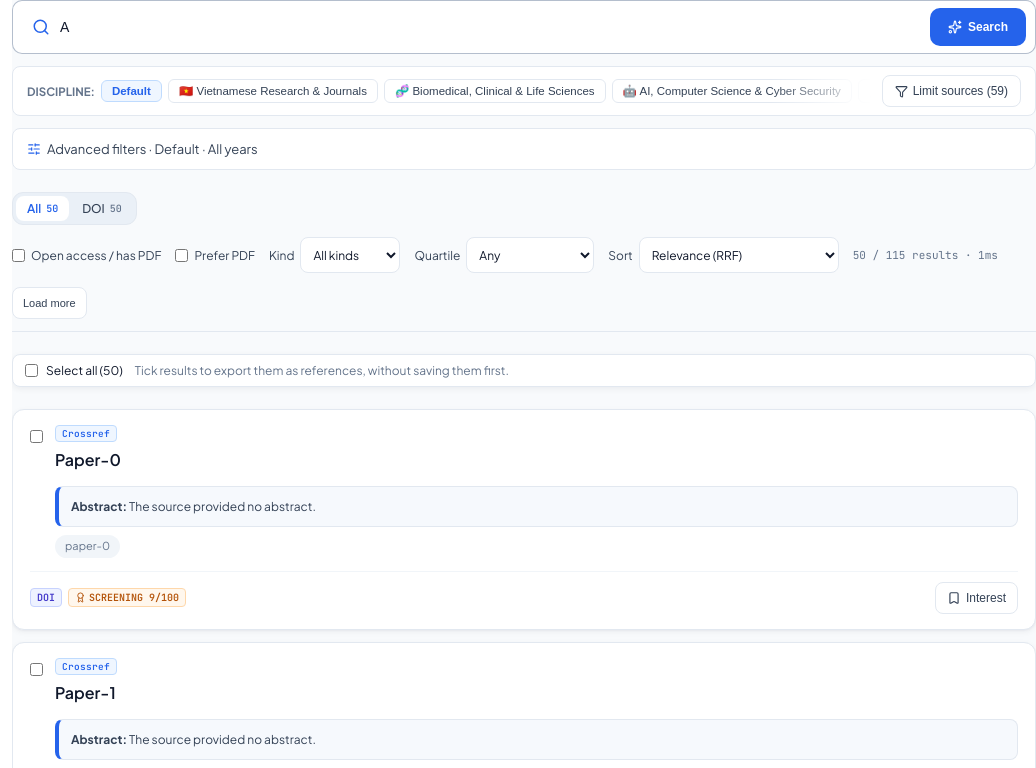
search pagination › continues beyond 100 merged papers until the candidate pool is exhausted
Click the button with id "search-load-more": (49, 303) [12, 287, 87, 319]
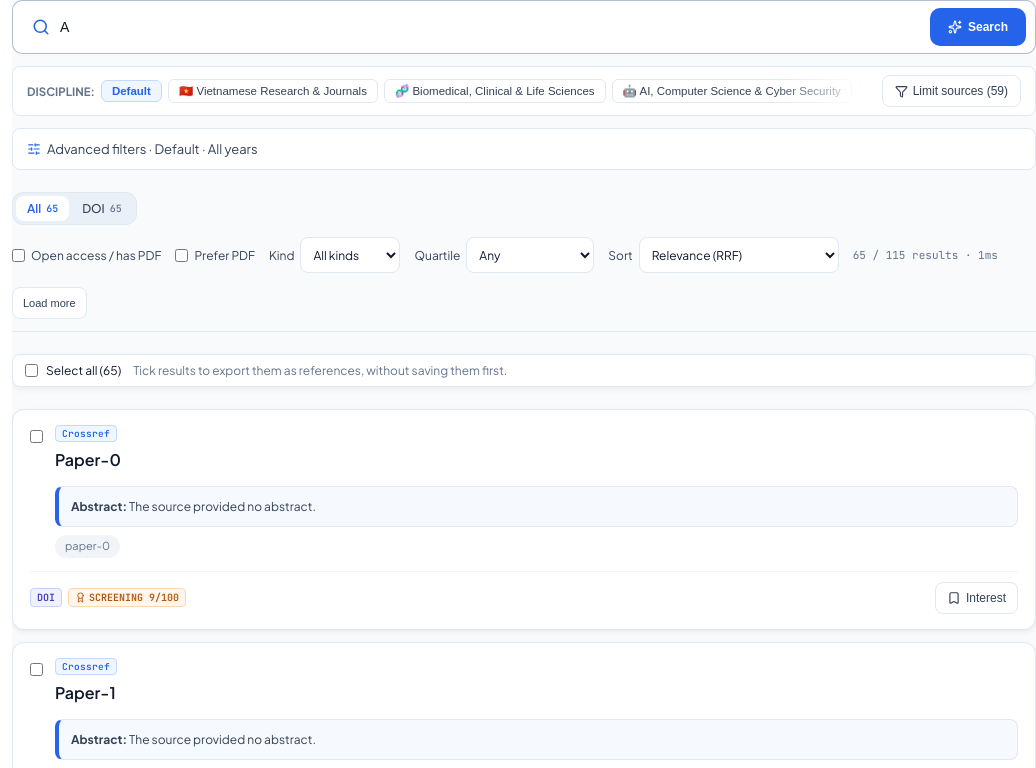
Click the button with id "search-load-more": (49, 303) [12, 287, 87, 319]
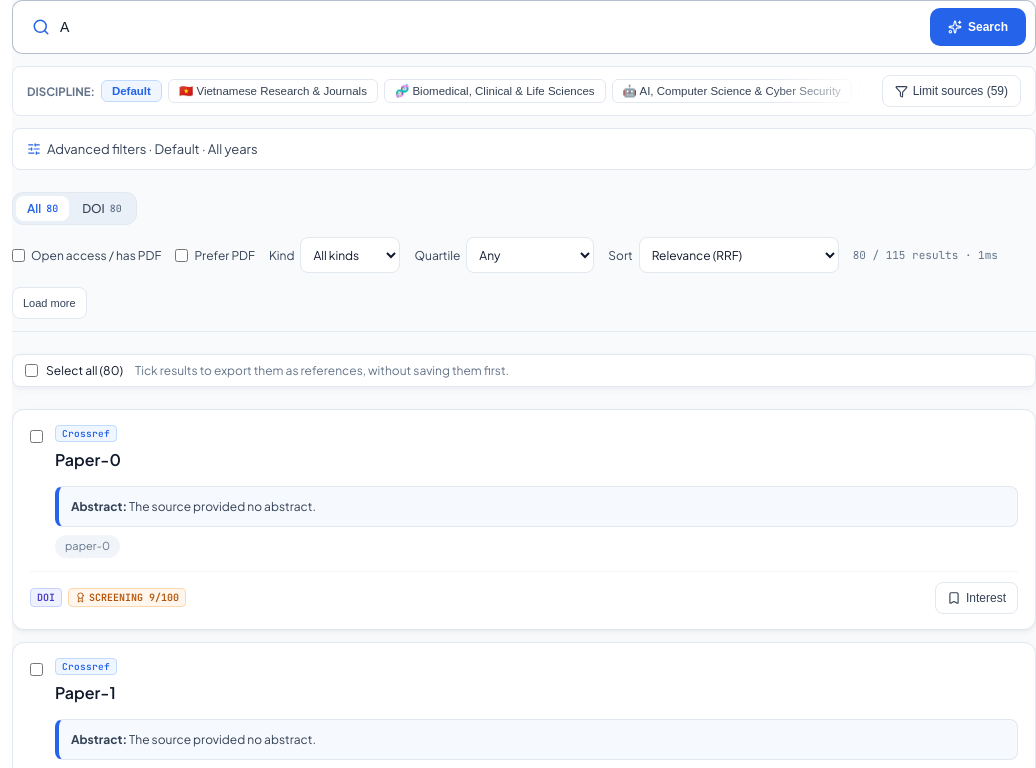
Click the button with id "search-load-more": (49, 303) [12, 287, 87, 319]
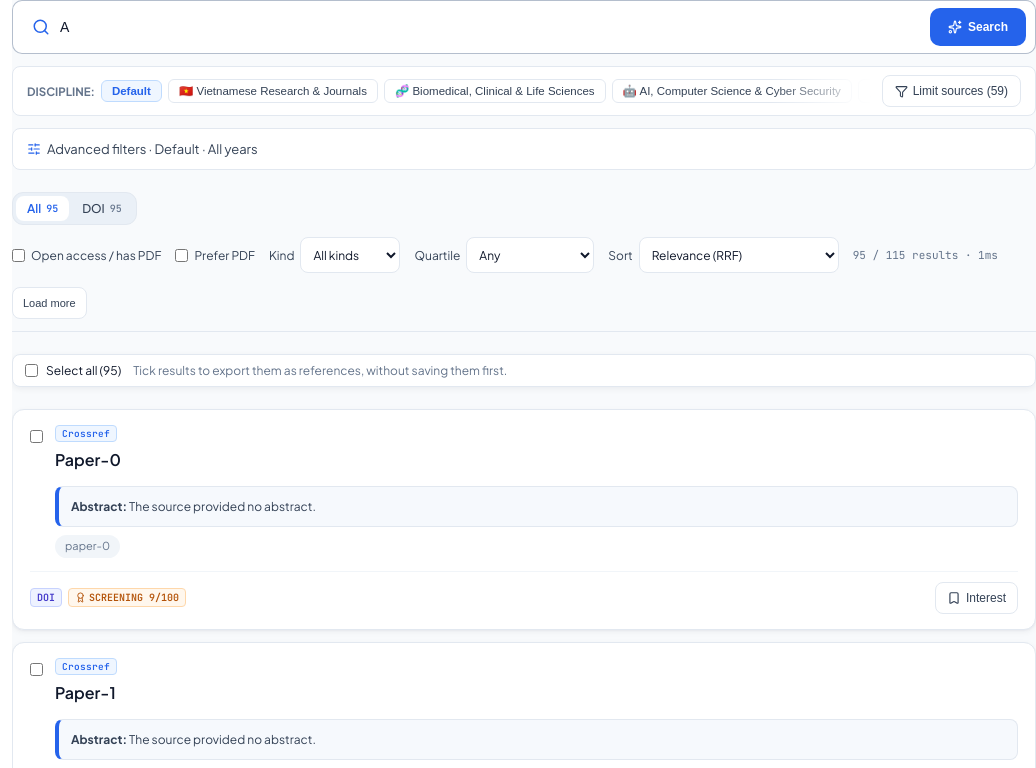
Click the button with id "search-load-more": (49, 303) [12, 287, 87, 319]
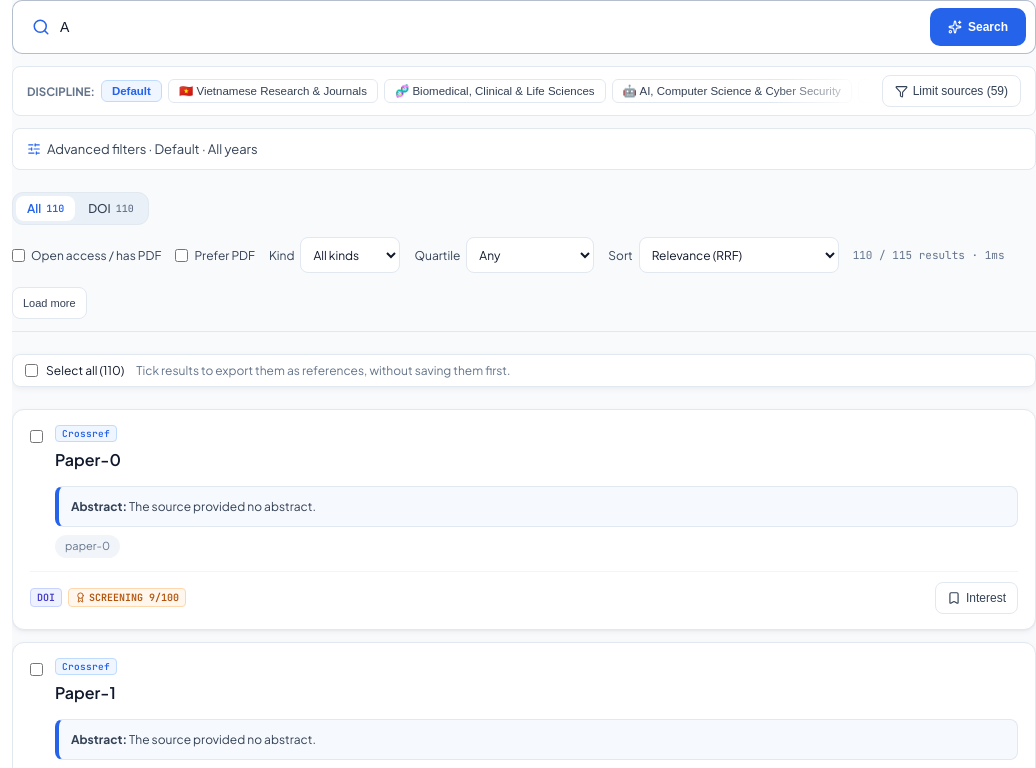
Click the button with id "search-load-more": (49, 303) [12, 287, 87, 319]
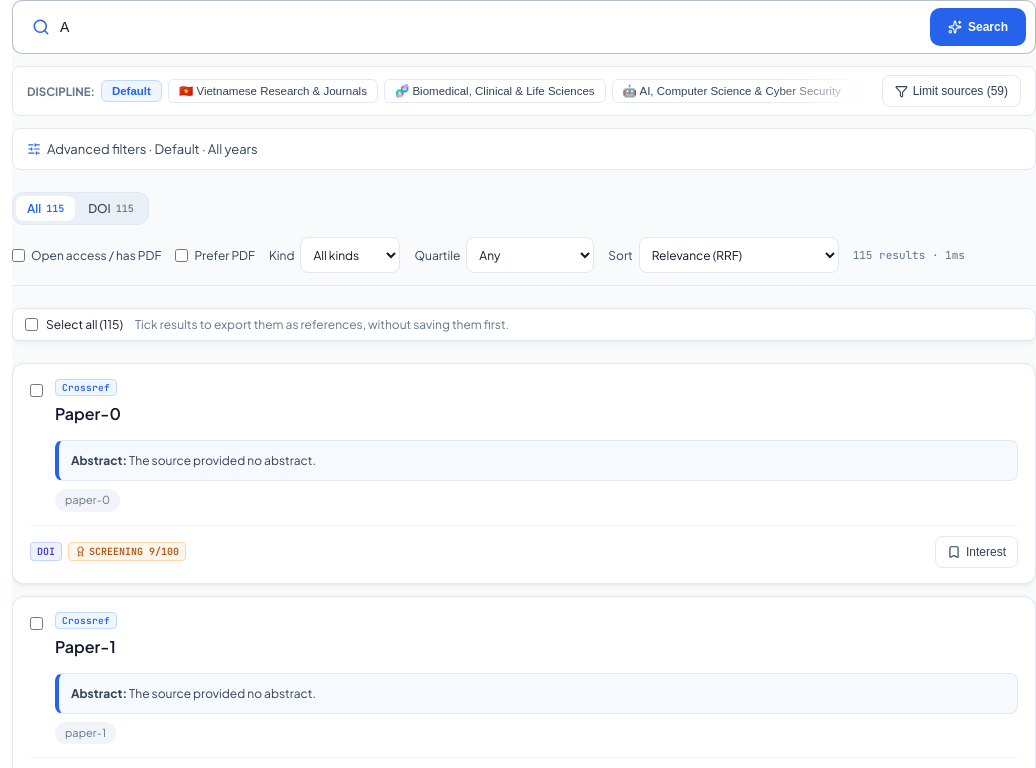
Expected: the button with id "search-load-more" is gone
